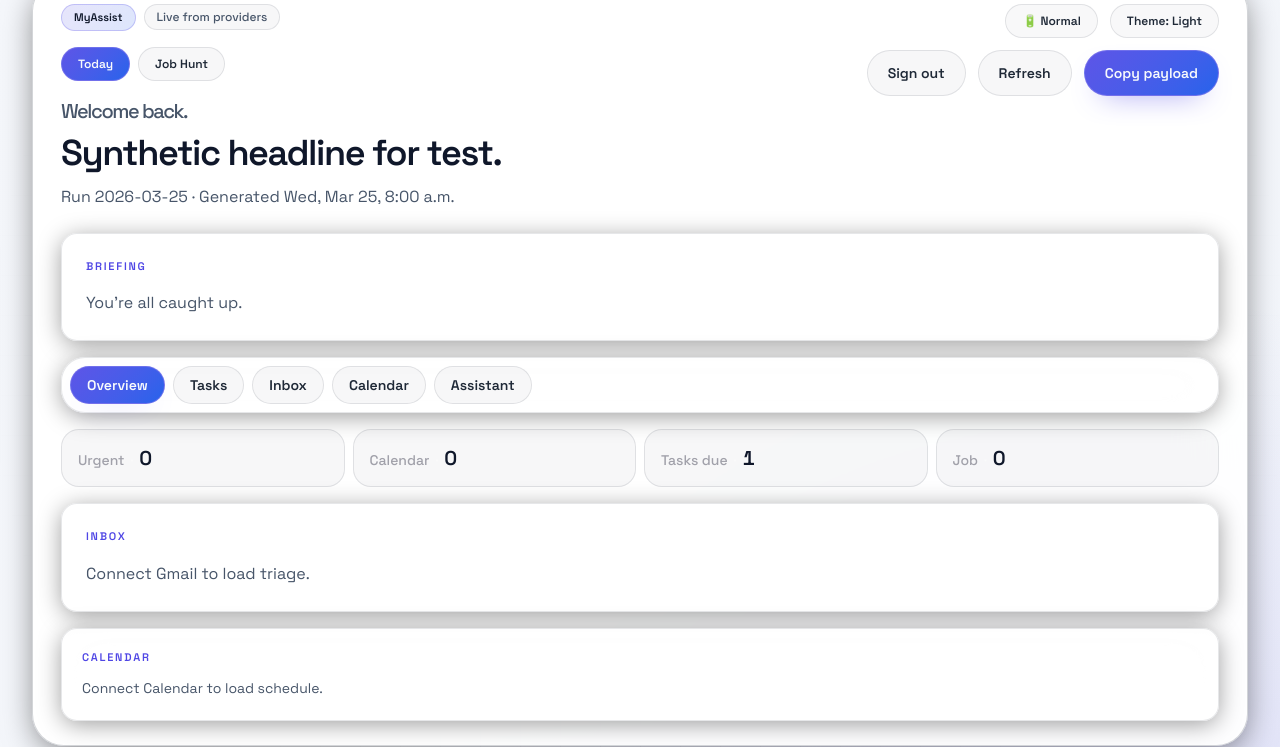
Test: Dashboard › shows success integration feedback when an action creates a linked task
Click the button "Inbox". click: click(288, 385)
box: x1=252 y1=366 x2=324 y2=404
(page scrolled)
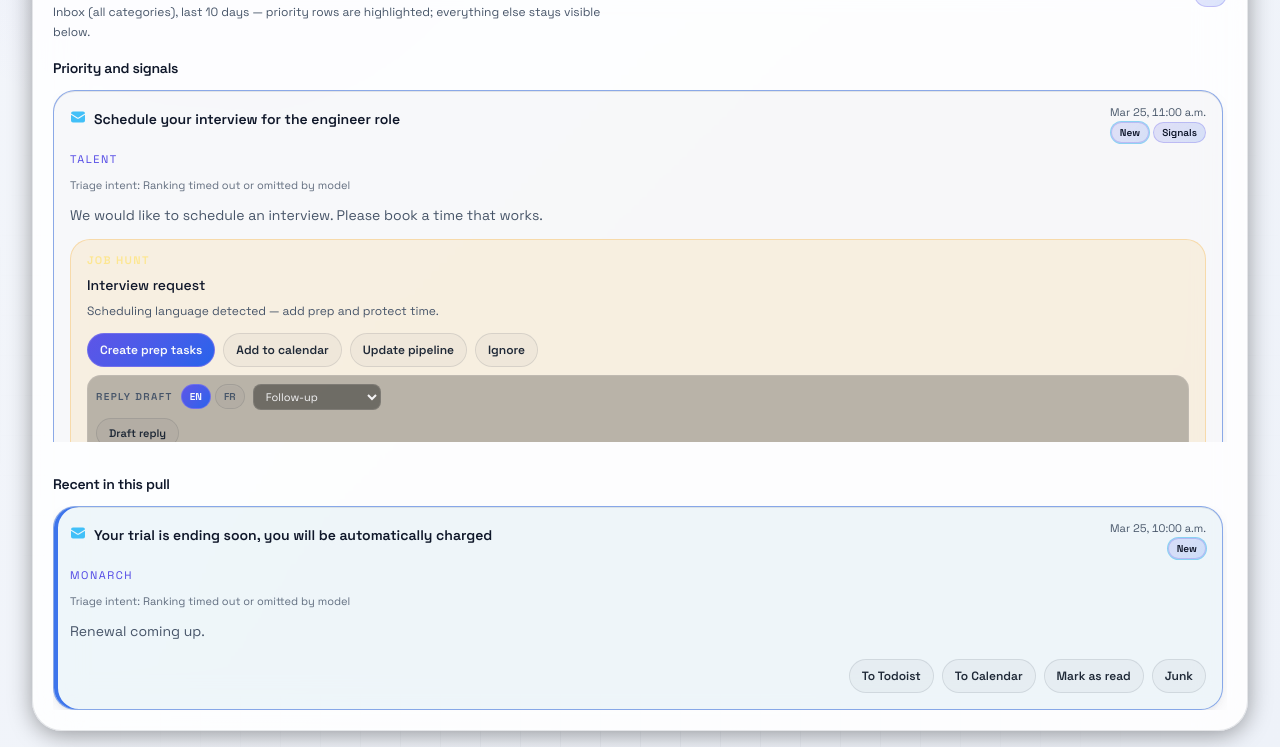
Click the button "To Todoist". click: click(891, 676)
box: x1=849 y1=659 x2=934 y2=693
(page scrolled)
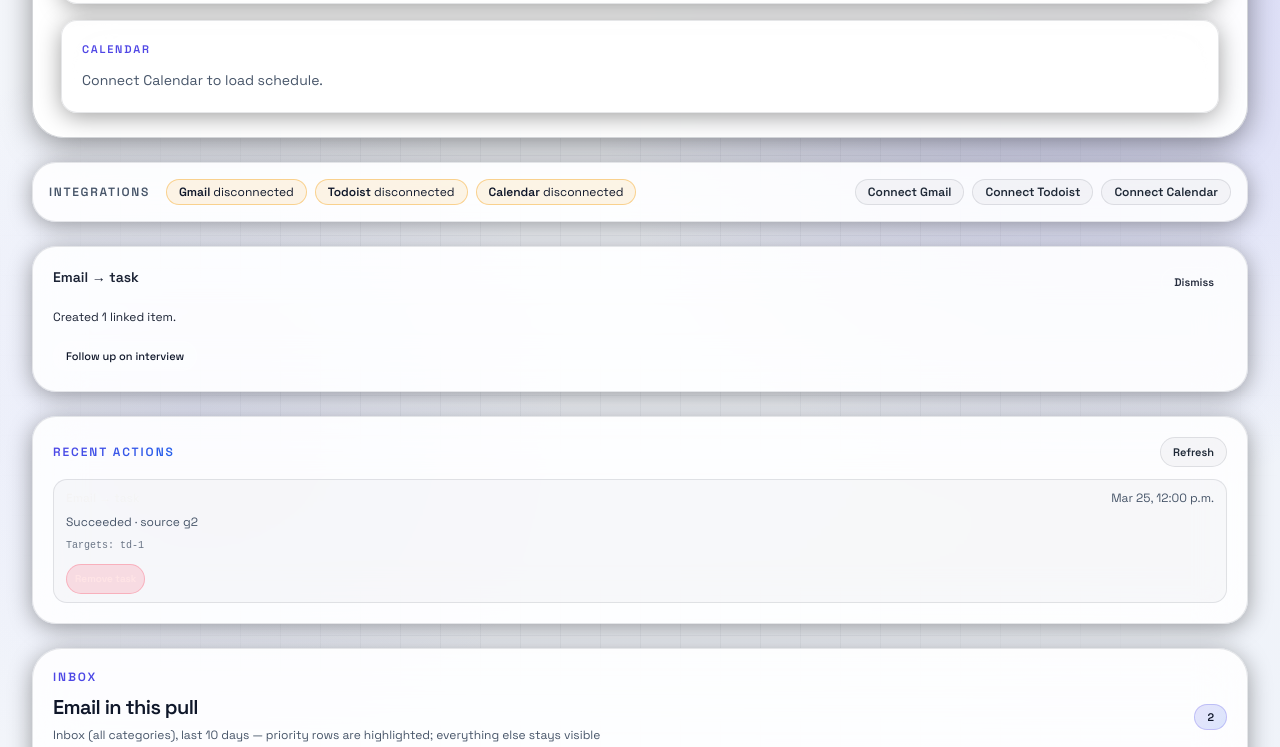
Check: the text "Created 1 linked item." is shown, box x1=53 y1=309 x2=176 y2=325
Check: the link "Follow up on interview" is shown, box x1=53 y1=341 x2=197 y2=371
